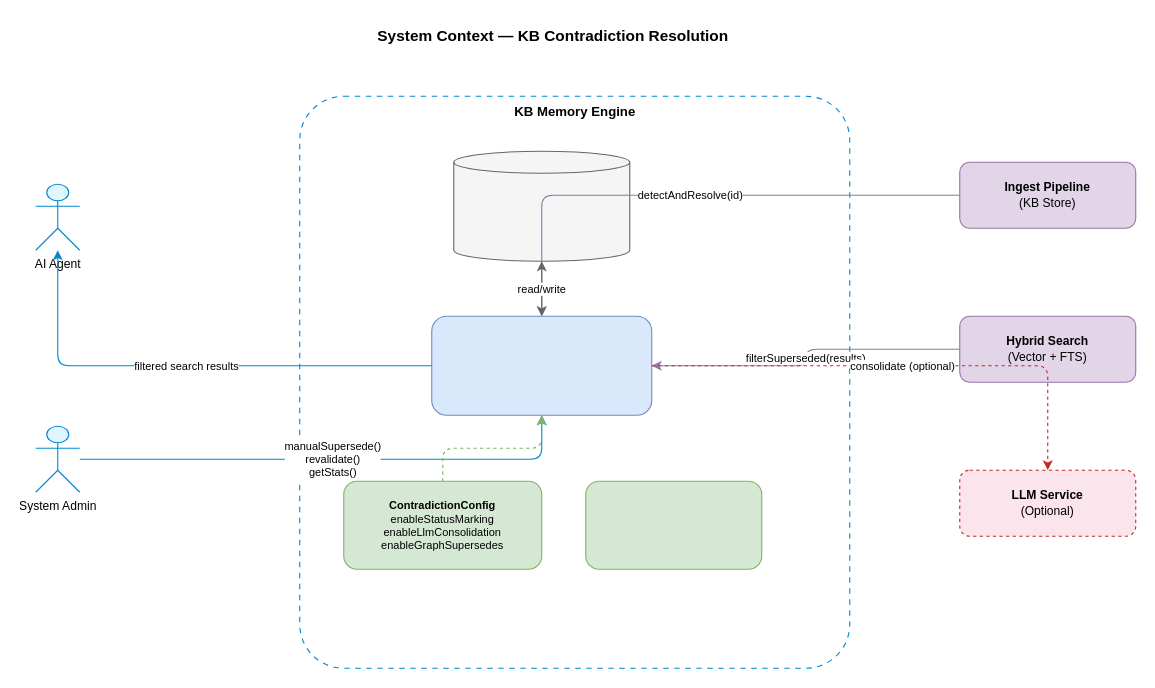
The diagram is 1155 pixels wide and 688 high, and some of its shapes have lost their labels. The box of each missing label's shape, as (x1, y1, x2, y2) in pixels:
ContradictionResolver detectAndResolve() filterSuperseded() consolidateWithLlm(): (431, 315, 652, 415)
SQLite DB knowledge_entries knowledge_graph_edges entity_index memory_audit: (453, 150, 630, 261)
SupersessionSignals Vietnamese + English keywords list: (585, 480, 762, 569)
